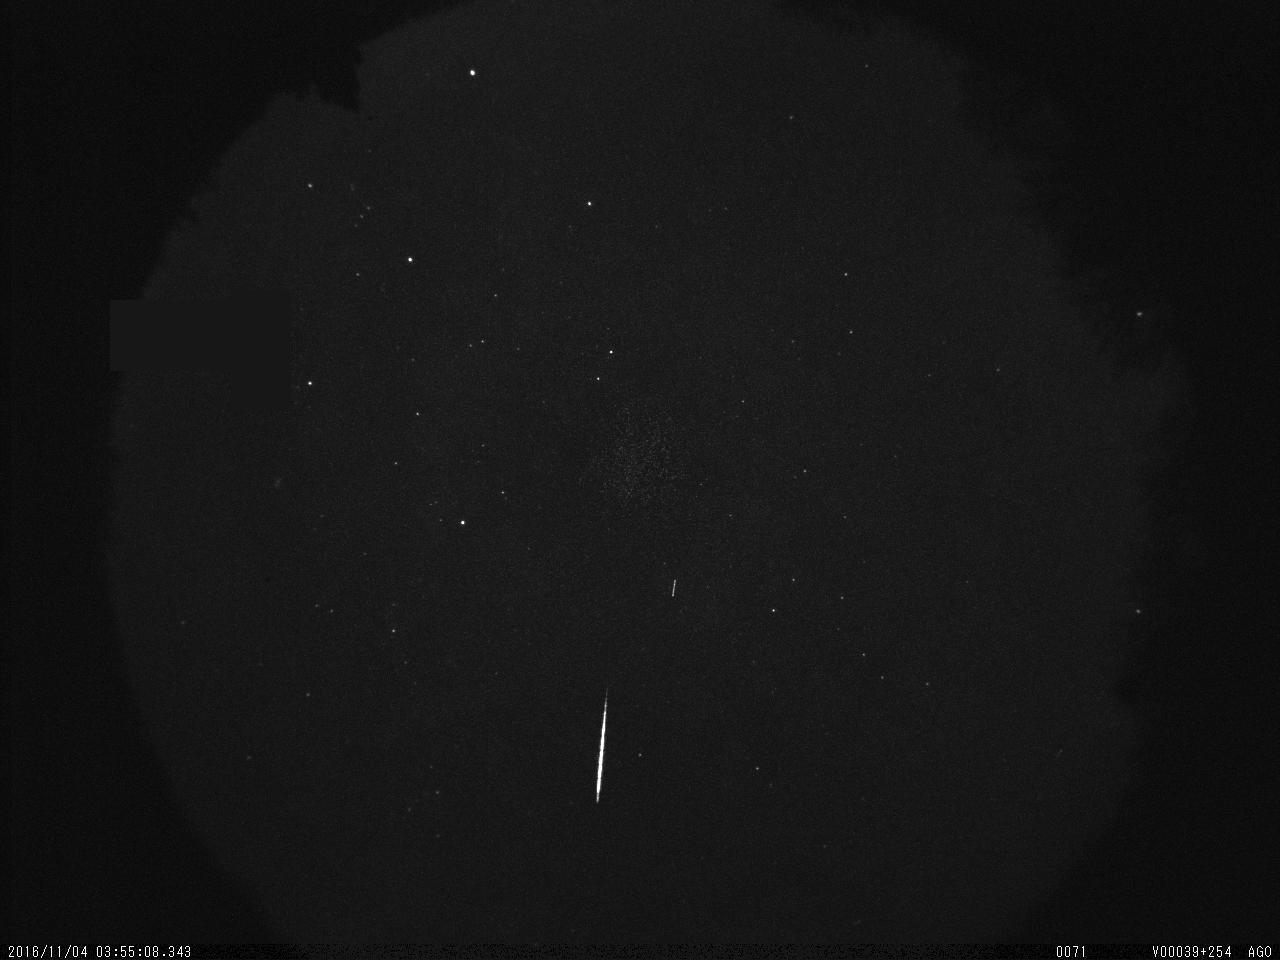meteor: (570, 677, 632, 819)
